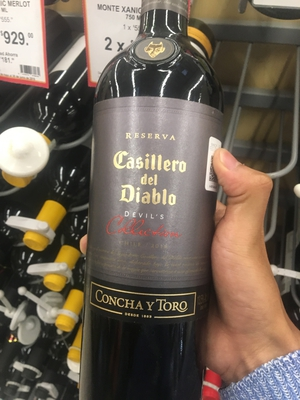casillero del diablo devils collection rojo: (85, 11, 219, 400)
